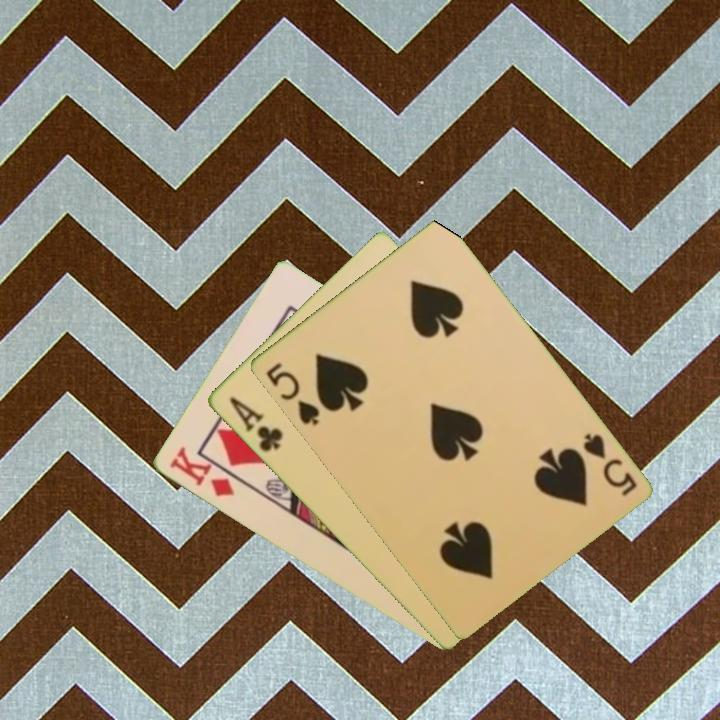5s: (261, 358, 323, 429), (578, 429, 640, 499)
Ac: (225, 393, 285, 455)
Kd: (165, 443, 237, 500)
